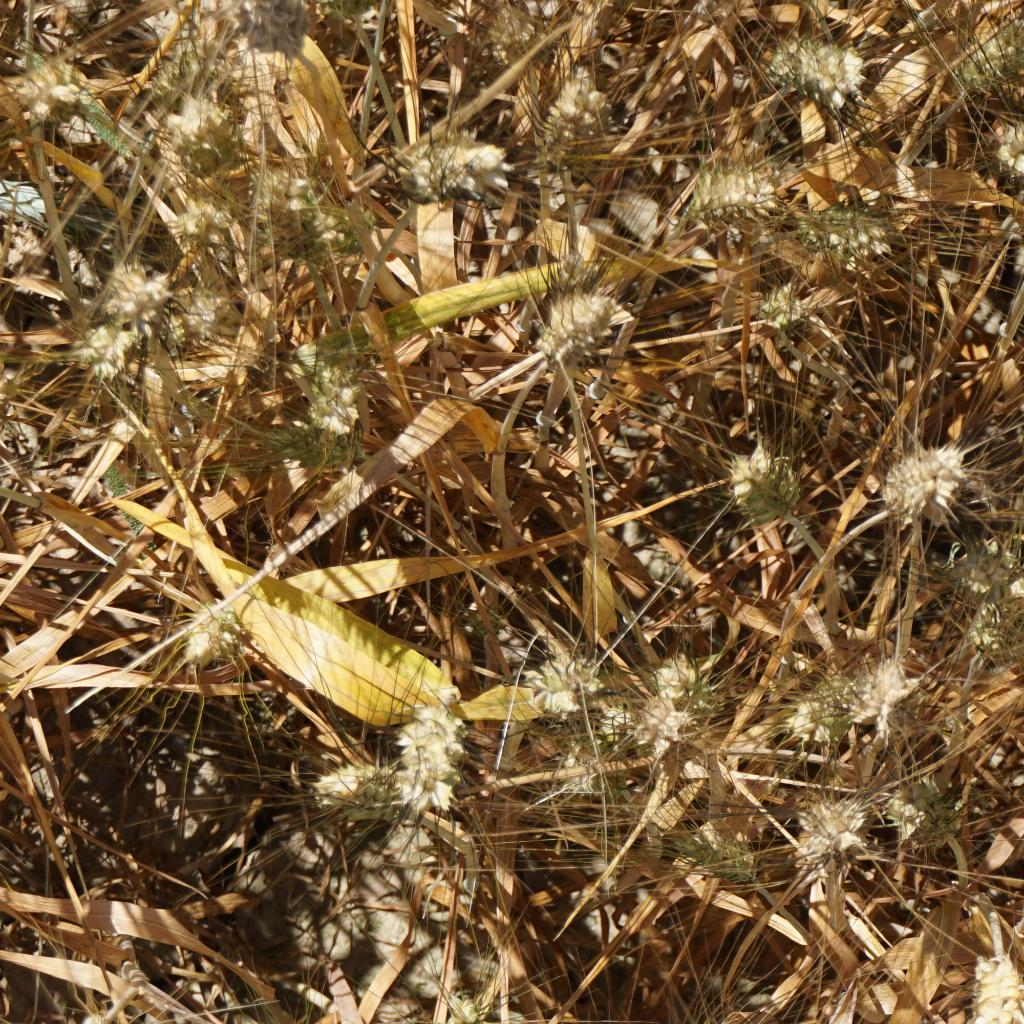0-0: (282, 355, 388, 473), (534, 277, 643, 373), (392, 122, 512, 204), (318, 762, 456, 832), (252, 163, 327, 275), (795, 200, 905, 273), (748, 34, 864, 103), (286, 195, 384, 273), (156, 78, 237, 167), (12, 48, 98, 124), (396, 689, 472, 773), (952, 4, 1024, 91), (950, 524, 1024, 607), (947, 945, 1024, 1024), (186, 584, 259, 667), (880, 440, 965, 508), (537, 71, 610, 150), (700, 155, 780, 223), (610, 692, 696, 755), (793, 796, 871, 864), (729, 452, 806, 520), (75, 316, 153, 379), (523, 645, 591, 716), (748, 275, 820, 342), (963, 601, 1024, 675), (249, 0, 320, 60), (795, 671, 853, 739), (684, 823, 753, 879), (892, 779, 951, 844), (864, 648, 918, 719), (180, 271, 237, 336), (100, 265, 164, 320), (652, 651, 715, 705), (0, 217, 54, 277), (164, 192, 220, 247), (425, 987, 505, 1024), (41, 999, 143, 1024), (994, 112, 1024, 183), (556, 738, 600, 786), (0, 355, 14, 409)
